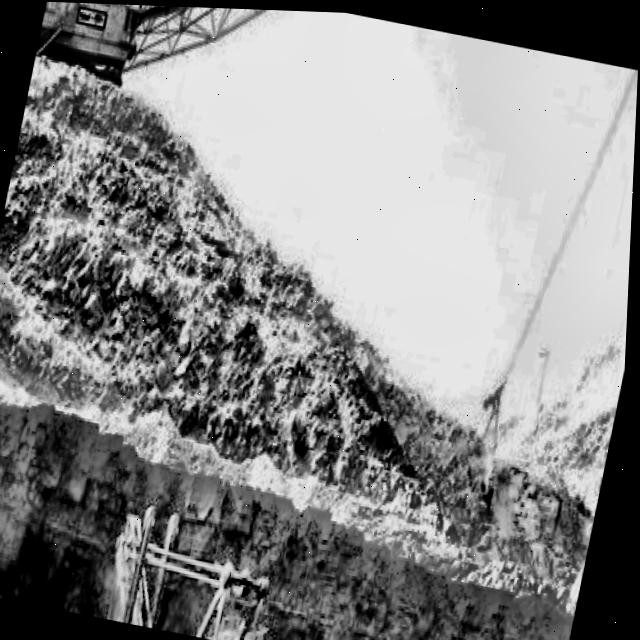excavator: (84, 491, 350, 640)
